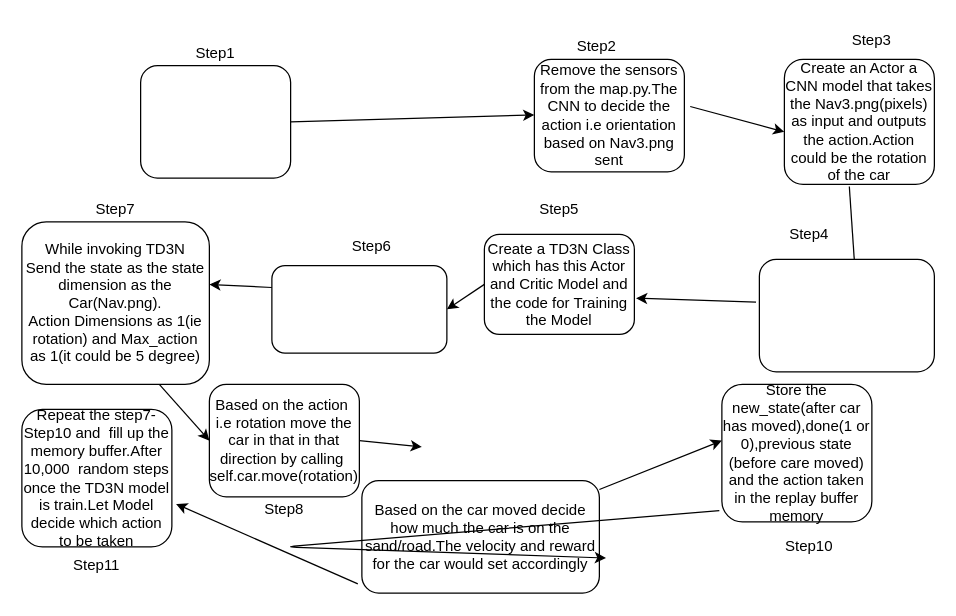
This 956x616 diagram has some shape labels left out. The shapes that lost their labels are listed below. From the top down, each one's box as (x1, y1, x2, y2) in pixels, then its label:
(139, 64, 291, 178): Change the Car.png to Nav3.png in car.kv. The Nav.png to be used during training
(271, 264, 447, 353): Create a policy by invoking this TD3N instead of DQN from map.py
(758, 258, 934, 372): Create a Critic which takes both action and state as input
